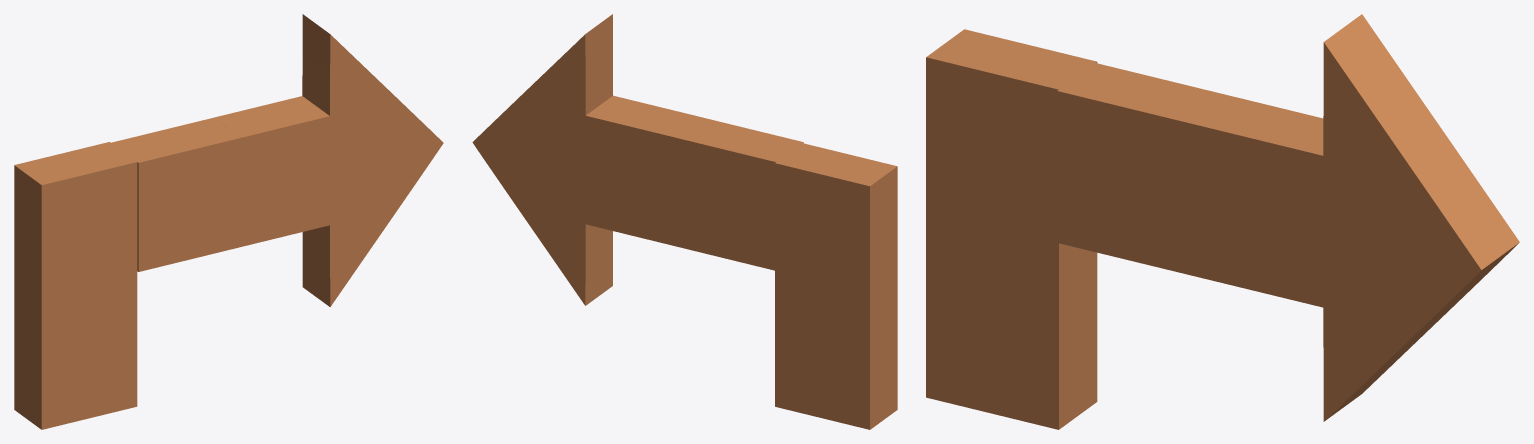
Rendered from 오른쪽방향 화살표.glb.
3 renders of one model, left to right at view 1: azimuth 30°, elevation 25°; view 2: azimuth 150°, elevation 25°; view 3: azimuth 330°, elevation 25°, orthographic. The views are drawn at different scales.
Visible parts, largest first — view 1: Mesh_Mesh_head_geo.001_lambert2SG.001; view 2: Mesh_Mesh_head_geo.001_lambert2SG.001; view 3: Mesh_Mesh_head_geo.001_lambert2SG.001.
Boxes of the visible parts, x1,y1,x2,y2 form: Mesh_Mesh_head_geo.001_lambert2SG.001: (14, 14, 443, 429); Mesh_Mesh_head_geo.001_lambert2SG.001: (472, 14, 897, 429); Mesh_Mesh_head_geo.001_lambert2SG.001: (926, 14, 1519, 429).
Size of the model in its own units: 41.97 by 32.69 by 5.23.
